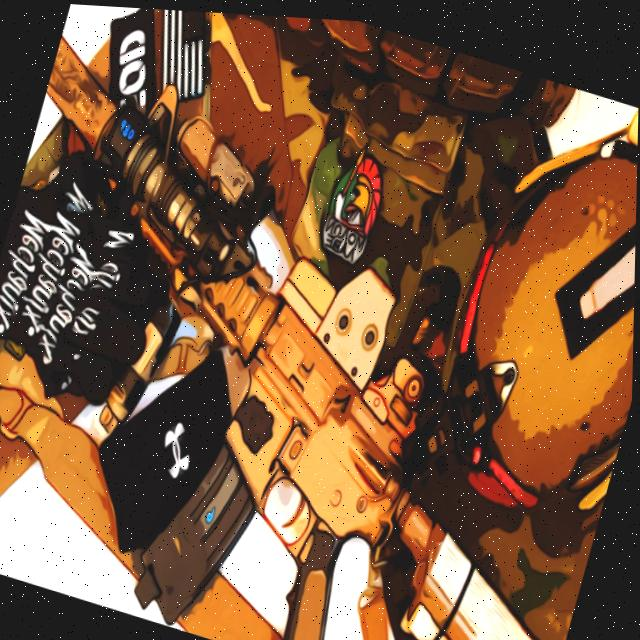firearm: (0, 24, 640, 640)
